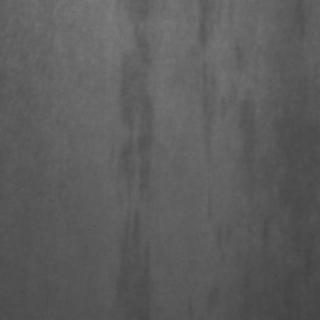inclusion: (104, 7, 156, 312), (180, 4, 228, 176), (226, 87, 266, 205)
